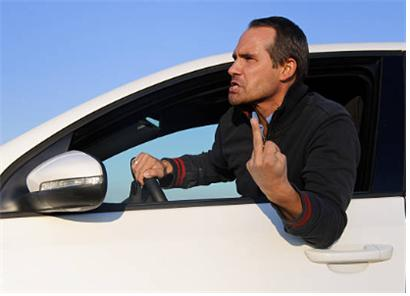insulting_gesture: (242, 116, 294, 198)
